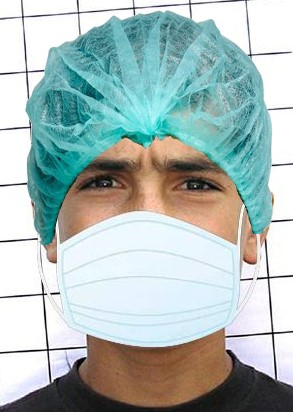with_mask_and_cap: (28, 9, 272, 351)
